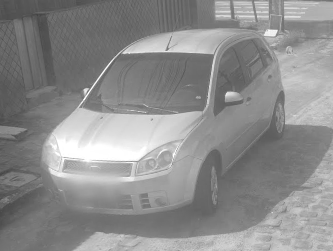car: (42, 28, 288, 219)
